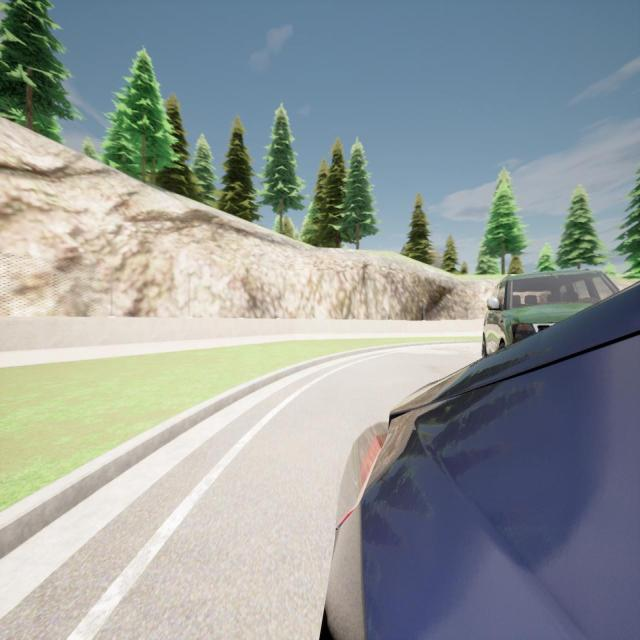Vehicle: (326, 283, 640, 638), (482, 270, 621, 359)
